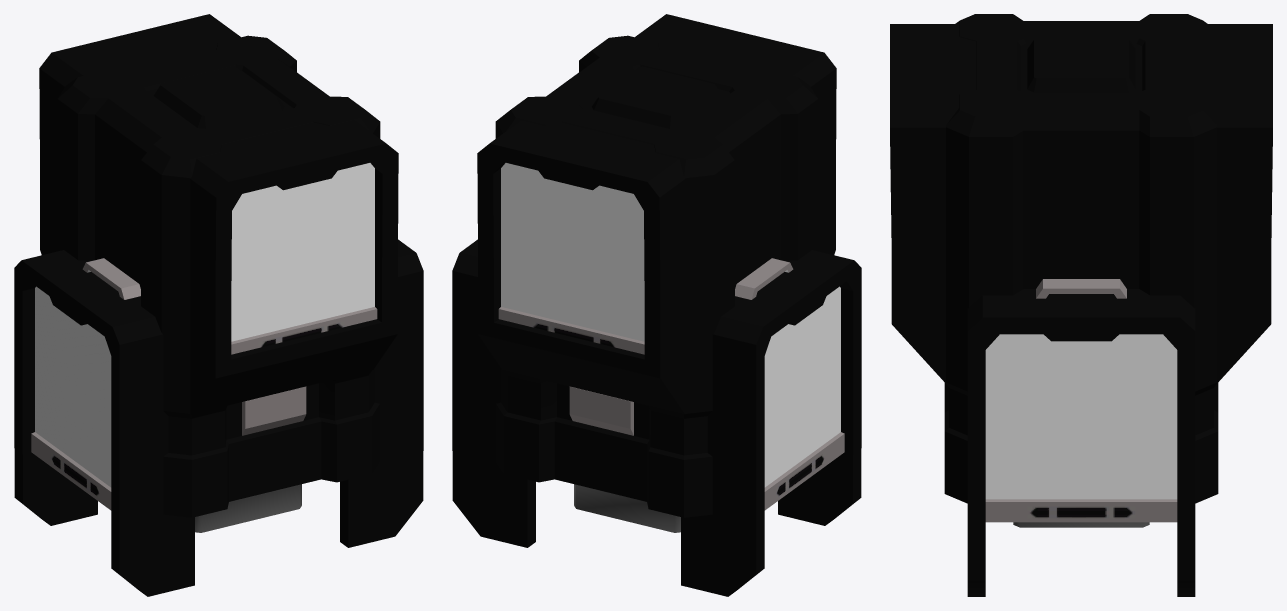
File: splitter-c.glb
3 renders of one model, left to right at view 1: azimuth 30°, elevation 25°; view 2: azimuth 150°, elevation 25°; view 3: azimuth 270°, elevation 25°, orthographic. The views are drawn at different scales.
Visible parts, largest first — view 1: splitter-3; view 2: splitter-3; view 3: splitter-3.
Boxes of the visible parts, box(x1,y1,x2,y2) form: splitter-3: box(14, 14, 423, 596); splitter-3: box(452, 14, 861, 596); splitter-3: box(890, 14, 1272, 596).
Bounding box in the file's own units: 2.5 × 3.44 × 2.52.
2 materials, 1 textured.
